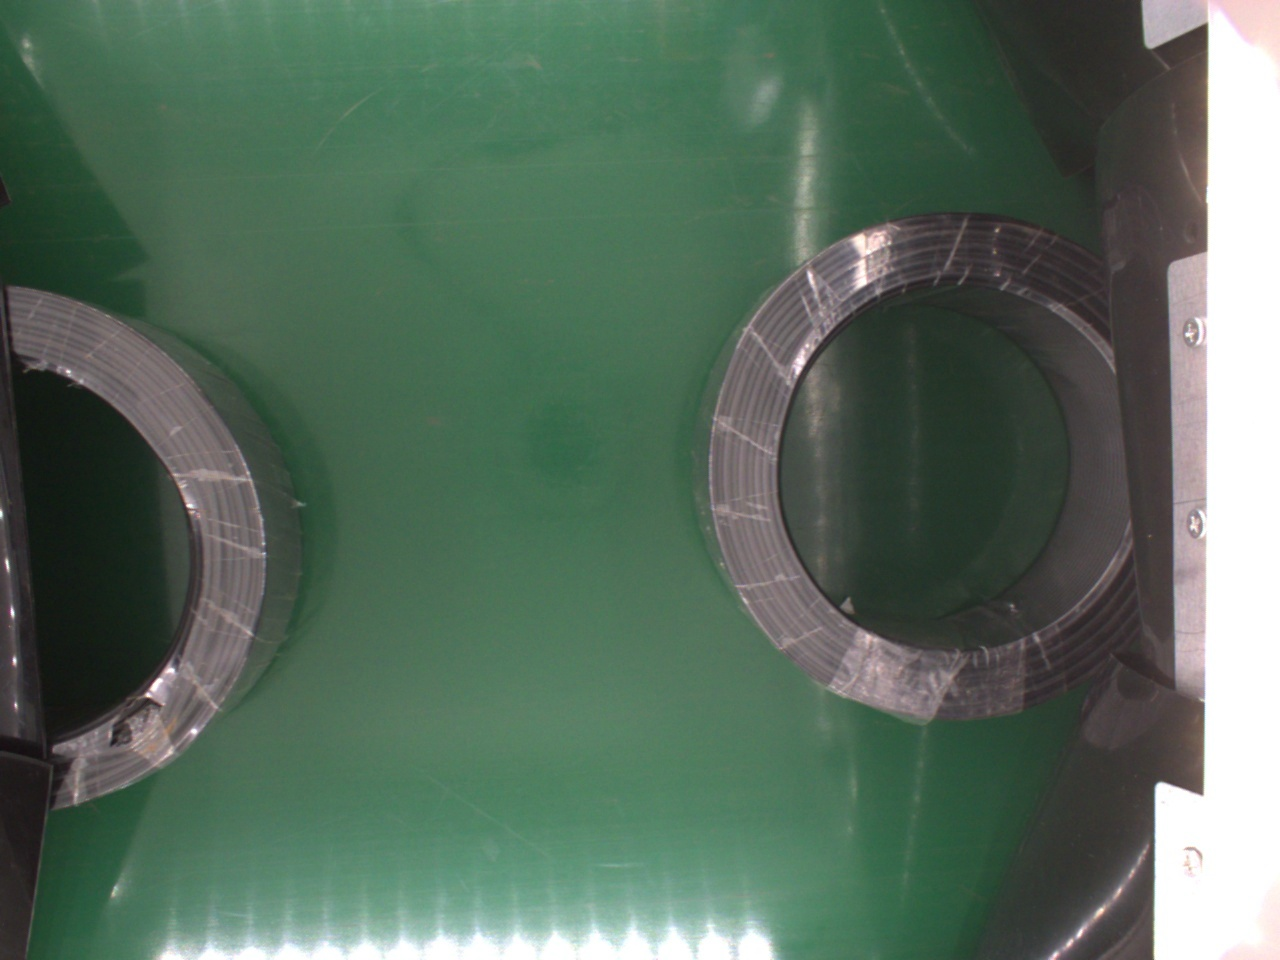black: (689, 210, 1157, 722), (10, 283, 303, 817)
